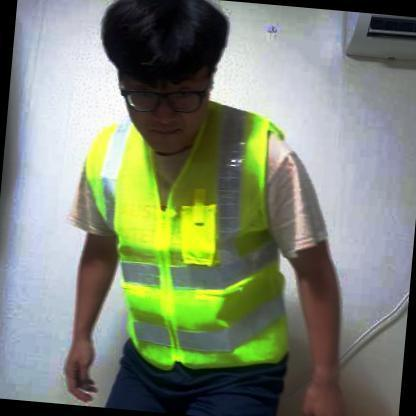no-helmet: (100, 0, 233, 98)
vest: (68, 91, 313, 382)
